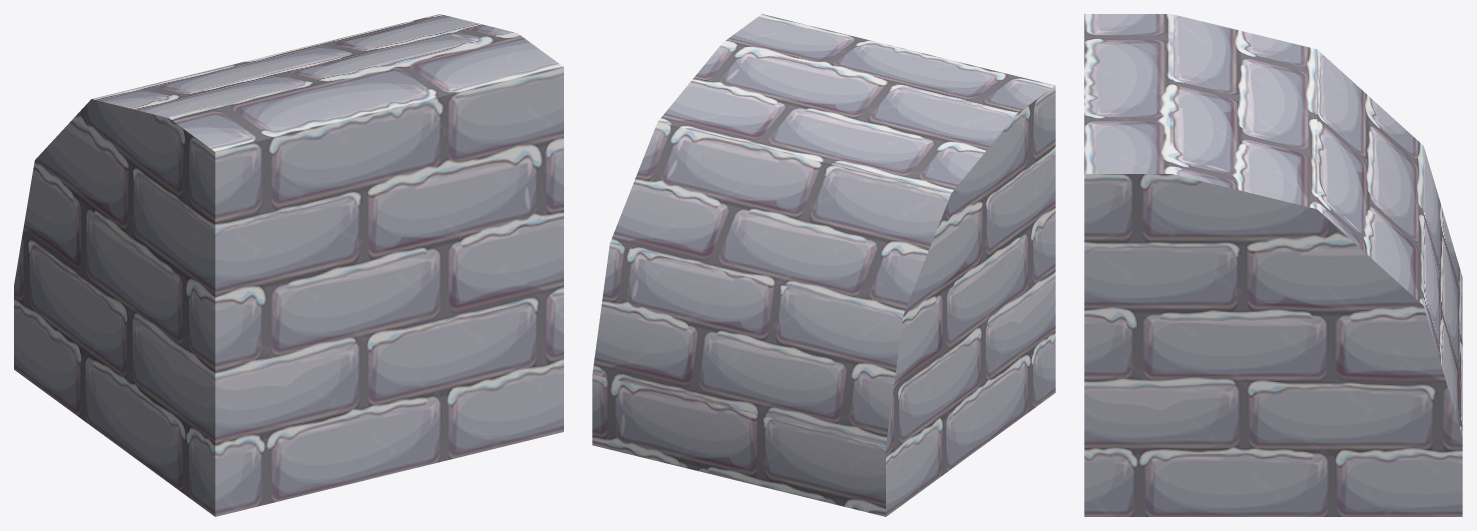
Rendered from POL0410005.fbx.
3 renders of one model, left to right at view 1: azimuth 30°, elevation 25°; view 2: azimuth 150°, elevation 25°; view 3: azimuth 270°, elevation 25°, orthographic. The views are drawn at different scales.
Parts seen in each view (by area): view 1: smPOL0410005; view 2: smPOL0410005; view 3: smPOL0410005.
Part boxes in pixels (<box>): smPOL0410005: <box>14,14,563,516</box>; smPOL0410005: <box>592,14,1055,516</box>; smPOL0410005: <box>1084,14,1462,516</box>.
Bounding box in the file's own units: 161 × 161 × 161.
Materials: 1 (1 with a texture image).
